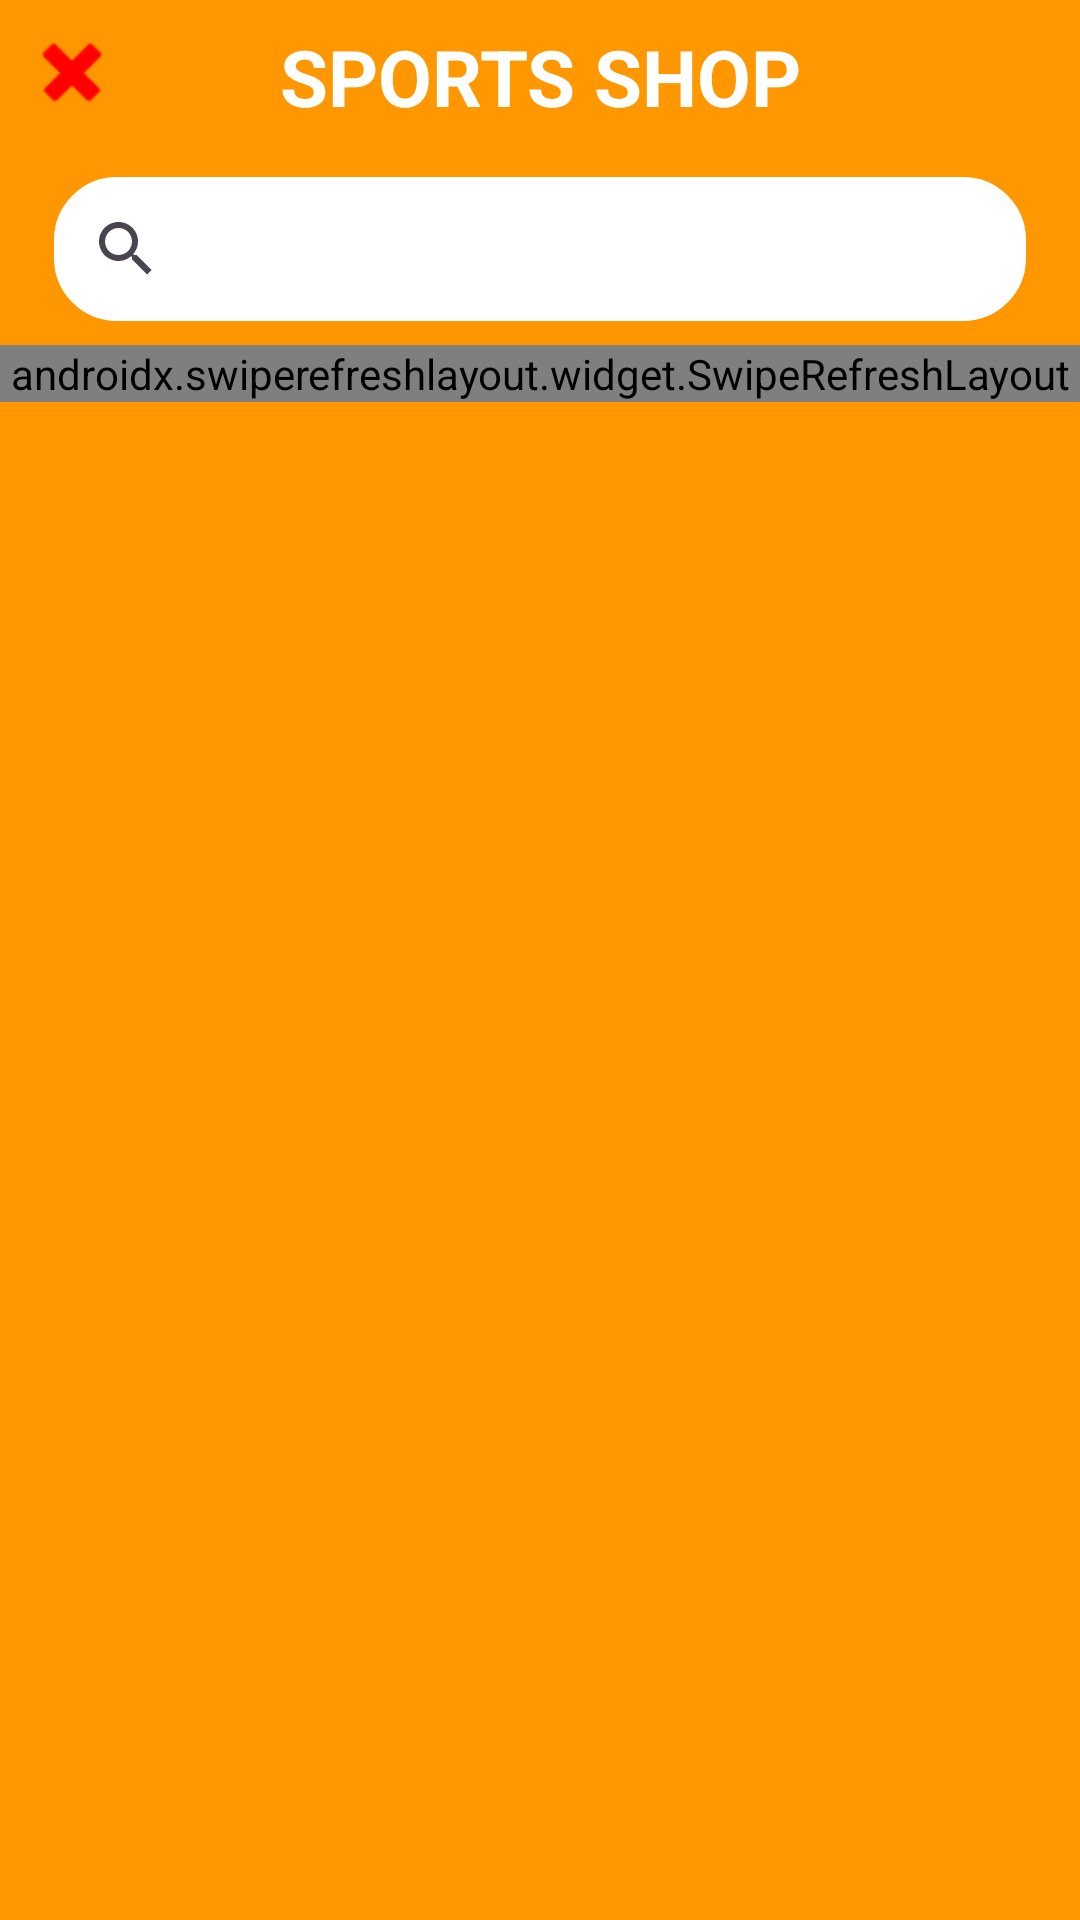

Icons on this 1080px x 1920px Android screen, each with its box as box(x1, y1, x2, y2):
delete: box(42, 43, 102, 102)
